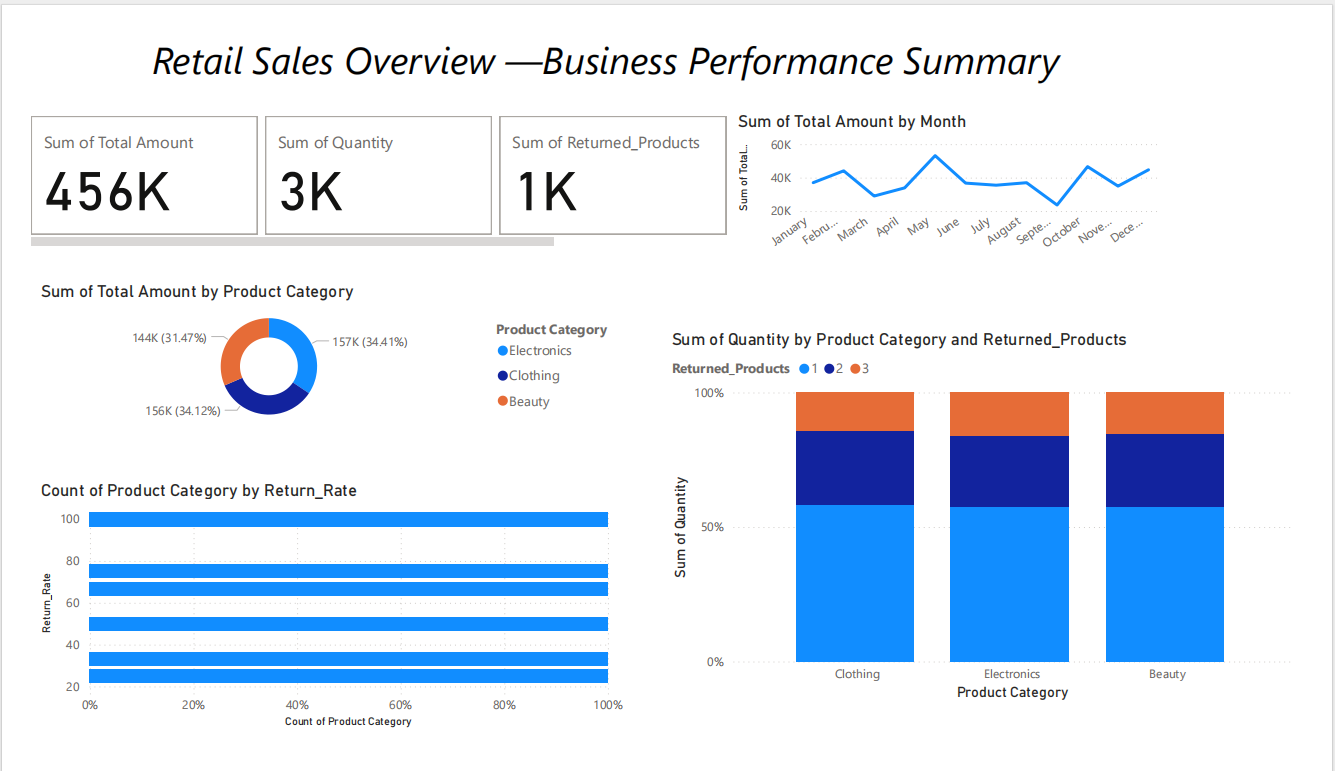

Layout of this report page (visuals, bound fields, positions):
{"tool":"powerbi","page":{"name":"Page 1","canvas":[1280,720],"ordinal":0},"visuals":[{"type":"textbox","box":[9.6,0,1128,82.3],"z":0},{"type":"cardVisual","fields":{"Data":["Sum(retails_sales_sql.Total Amount)","Sum(retails_sales_sql.Quantity)","Sum(retails_sales_sql.Returned_Products)","Sum(retails_sales_sql.Return_Rate)"]},"box":[0,81.9,705.6,140.6],"z":1000},{"type":"donutChart","fields":{"Category":["retails_sales_sql.Product Category"],"Y":["Sum(retails_sales_sql.Total Amount)"]},"box":[9.6,252.5,591.4,150.9],"z":3000},{"type":"hundredPercentStackedBarChart","fields":{"Y":["CountNonNull(retails_sales_sql.Product Category)"],"Category":["retails_sales_sql.Return_Rate"]},"box":[9.6,450.1,591.4,252.5],"z":4000},{"type":"hundredPercentStackedColumnChart","fields":{"Category":["retails_sales_sql.Product Category"],"Y":["Sum(retails_sales_sql.Quantity)"],"Series":["retails_sales_sql.Returned_Products"]},"box":[639.5,299.6,629.8,375.4],"z":5000},{"type":"lineChart","fields":{"Category":["retails_sales_sql.Date.Variation.Date Hierarchy.Month"],"Y":["Sum(retails_sales_sql.Total Amount)"]},"box":[706,82,432,150],"z":6000}]}

Visuals, with their boxes in screenshot pixels (x1, y1, x2, y2), scaled from the page's 1280x720 canvas onto the 1335x771 screenshot:
textbox: BBox(10, 0, 1186, 88)
cardVisual - Sum(retails_sales_sql.Total Amount) x Sum(retails_sales_sql.Quantity): BBox(0, 88, 736, 238)
donutChart - retails_sales_sql.Product Category x Sum(retails_sales_sql.Total Amount): BBox(10, 270, 627, 432)
hundredPercentStackedBarChart - CountNonNull(retails_sales_sql.Product Category) x retails_sales_sql.Return_Rate: BBox(10, 482, 627, 752)
hundredPercentStackedColumnChart - retails_sales_sql.Product Category x Sum(retails_sales_sql.Quantity): BBox(667, 321, 1324, 723)
lineChart - retails_sales_sql.Date.Variation.Date Hierarchy.Month x Sum(retails_sales_sql.Total Amount): BBox(736, 88, 1187, 248)
